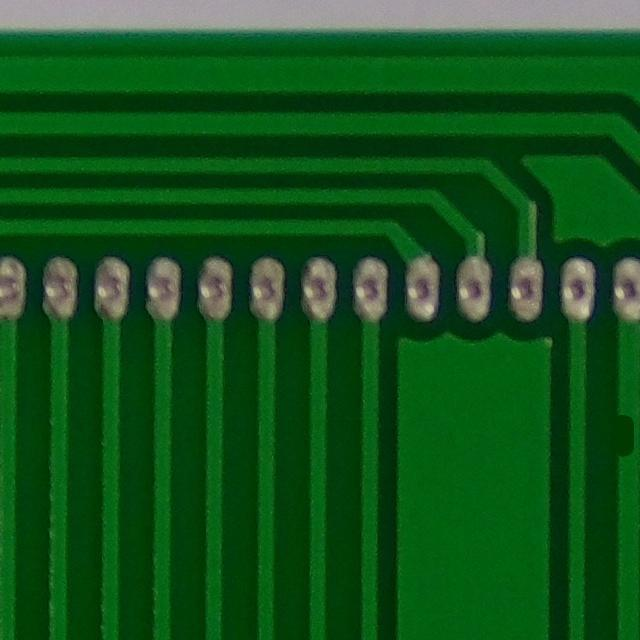mouse_bite: (597, 401, 640, 475)
